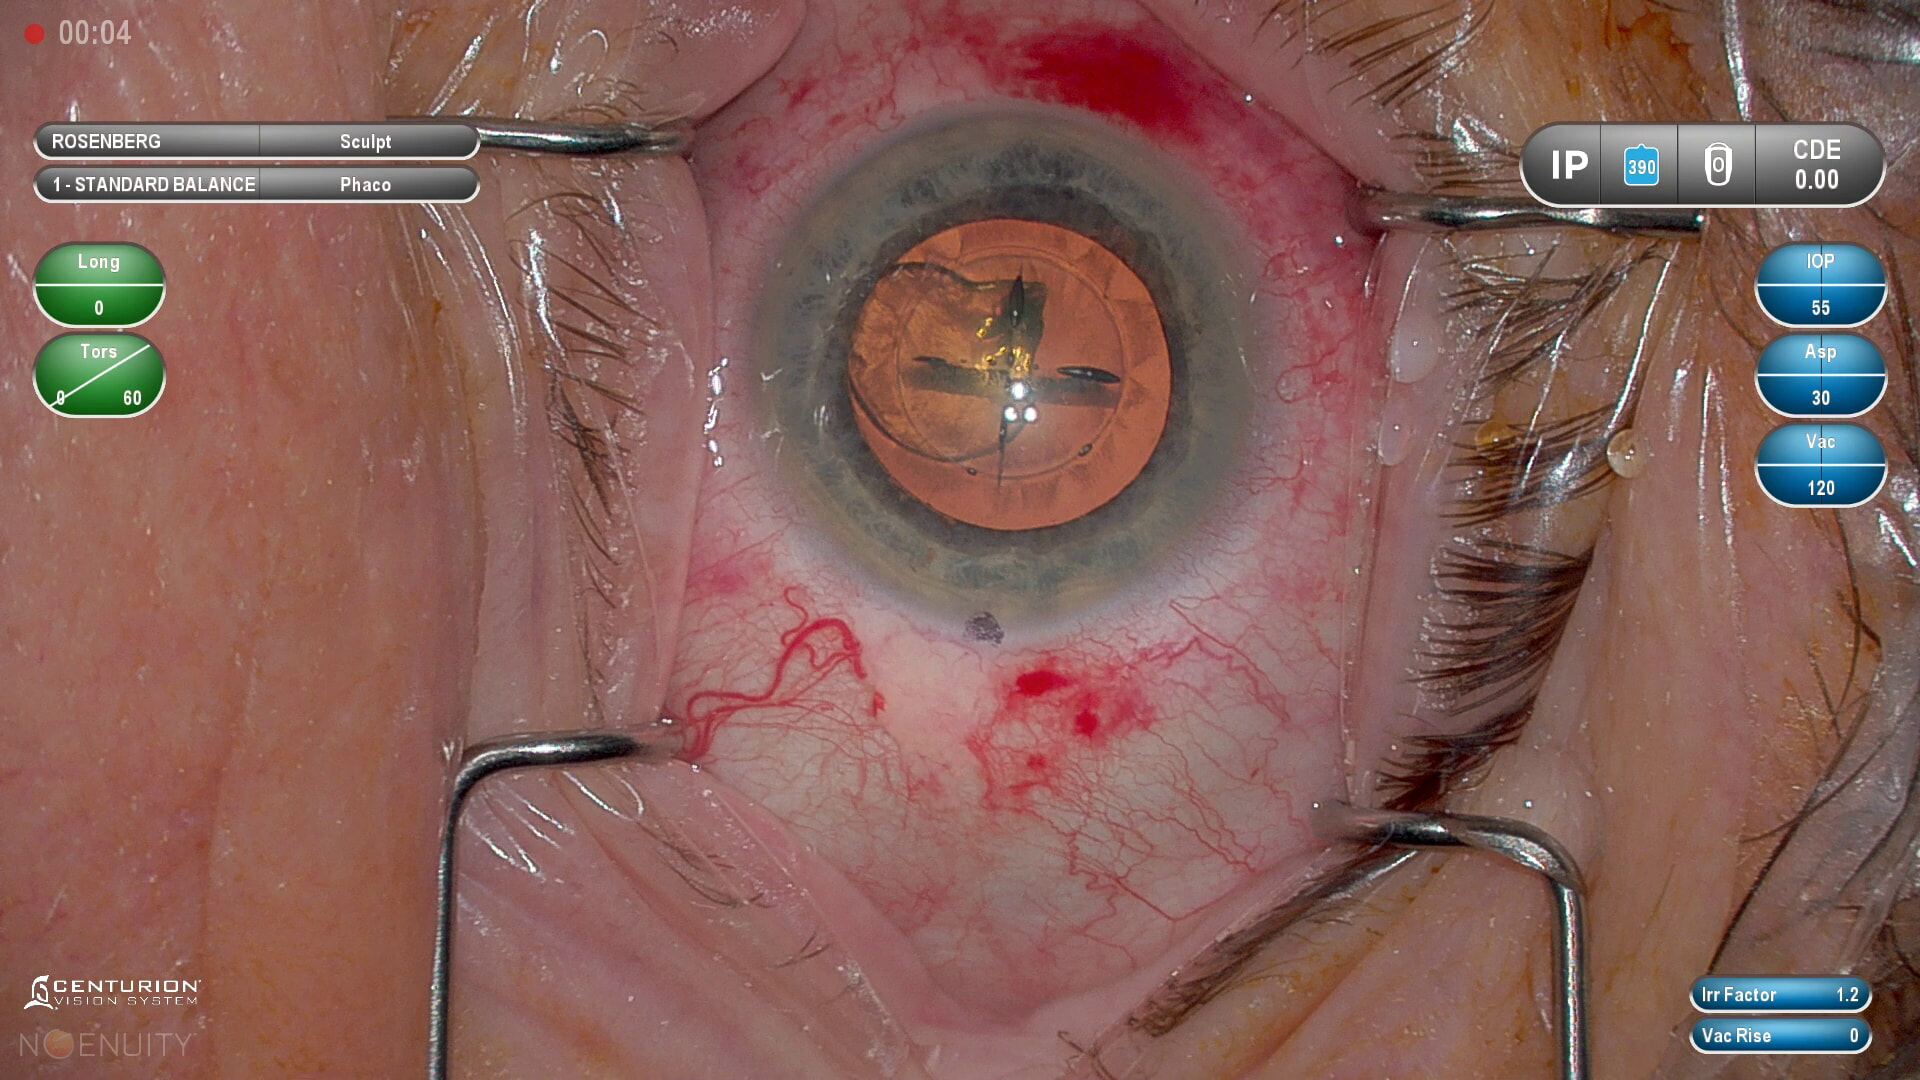iris: (749, 119, 1249, 612)
pupil: (842, 217, 1176, 533)
